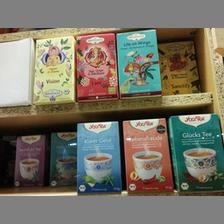Tee: (168, 110, 220, 194), (122, 116, 174, 192), (115, 28, 163, 98), (76, 121, 120, 193), (33, 35, 73, 103), (75, 30, 115, 97), (157, 38, 201, 94), (12, 134, 46, 186), (47, 130, 75, 186)
